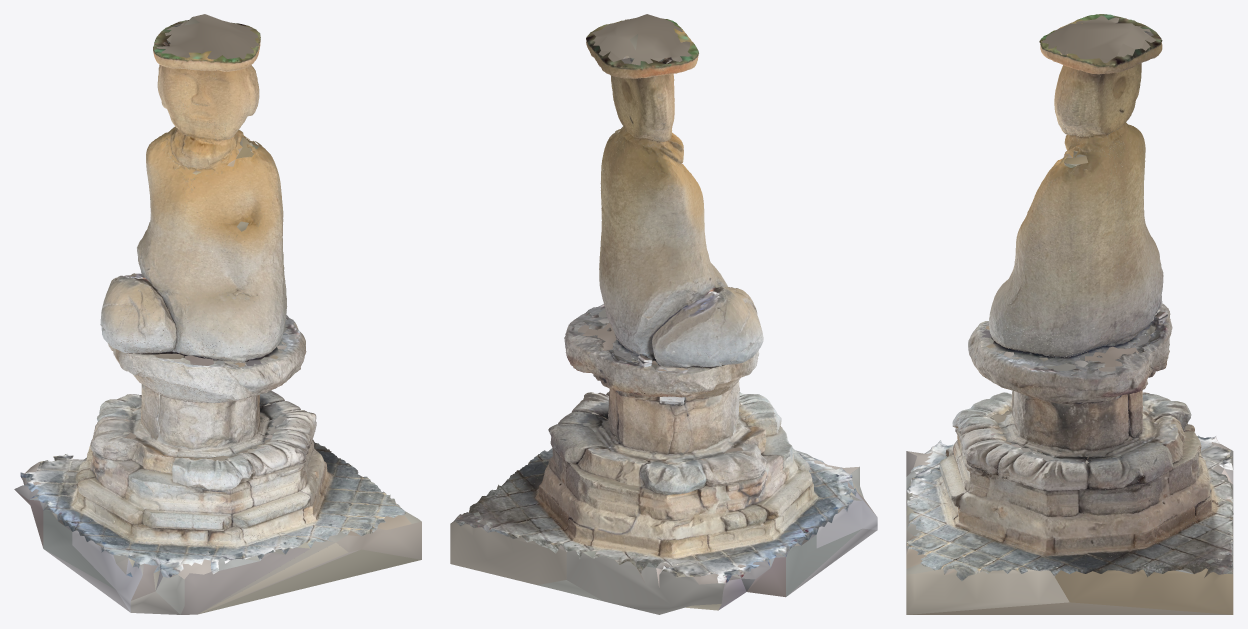
The model's file is jeongnim_buddha.glb.
3 views of the same model, side by side, from view 1: azimuth 30°, elevation 25°; view 2: azimuth 150°, elevation 25°; view 3: azimuth 270°, elevation 25° (orthographic). The views are drawn at different scales.
Visible parts, largest first — view 1: model_tex_u1_v1_0.005, model_tex_u1_v1_0.007, model, model_tex_u1_v1_0.009, model_tex_u1_v1_0.004, model_tex_u1_v1_0.003, model_tex_u1_v1_0.008, model_tex_u1_v1_0.010, model_tex_u1_v1_0.006, model_tex_u1_v1_0.002, model_tex_u1_v1_0.001; view 2: model_tex_u1_v1_0.002, model_tex_u1_v1_0.003, model_tex_u1_v1_0.006, model_tex_u1_v1_0.001, model, model_tex_u1_v1_0.007, model_tex_u1_v1_0.005, model_tex_u1_v1_0.008, model_tex_u1_v1_0.009, model_tex_u1_v1_0.010; view 3: model, model_tex_u1_v1_0.006, model_tex_u1_v1_0.001, model_tex_u1_v1_0.002, model_tex_u1_v1_0.009, model_tex_u1_v1_0.008, model_tex_u1_v1_0.007, model_tex_u1_v1_0.004, model_tex_u1_v1_0.005, model_tex_u1_v1_0.010, model_tex_u1_v1_0.003.
Part boxes in pixels (<box>): model_tex_u1_v1_0.005: <box>44,336,338,614</box>; model_tex_u1_v1_0.007: <box>111,153,286,339</box>; model: <box>162,315,421,613</box>; model_tex_u1_v1_0.009: <box>109,40,348,613</box>; model_tex_u1_v1_0.004: <box>128,294,304,449</box>; model_tex_u1_v1_0.003: <box>14,308,264,589</box>; model_tex_u1_v1_0.008: <box>100,17,286,347</box>; model_tex_u1_v1_0.010: <box>131,410,349,612</box>; model_tex_u1_v1_0.006: <box>146,14,279,193</box>; model_tex_u1_v1_0.002: <box>23,305,270,531</box>; model_tex_u1_v1_0.001: <box>108,292,326,540</box>; model_tex_u1_v1_0.002: <box>519,304,778,614</box>; model_tex_u1_v1_0.003: <box>537,330,861,610</box>; model_tex_u1_v1_0.006: <box>586,14,698,340</box>; model_tex_u1_v1_0.001: <box>451,295,741,578</box>; model: <box>450,304,827,584</box>; model_tex_u1_v1_0.007: <box>599,137,738,355</box>; model_tex_u1_v1_0.005: <box>615,136,877,596</box>; model_tex_u1_v1_0.008: <box>586,34,761,354</box>; model_tex_u1_v1_0.009: <box>601,19,810,480</box>; model_tex_u1_v1_0.010: <box>606,393,823,470</box>; model: <box>906,362,1233,614</box>; model_tex_u1_v1_0.006: <box>1040,14,1162,342</box>; model_tex_u1_v1_0.001: <box>955,266,1233,577</box>; model_tex_u1_v1_0.002: <box>1036,295,1233,534</box>; model_tex_u1_v1_0.009: <box>907,19,1146,535</box>; model_tex_u1_v1_0.008: <box>989,15,1161,345</box>; model_tex_u1_v1_0.007: <box>1013,161,1163,339</box>; model_tex_u1_v1_0.004: <box>968,302,1075,447</box>; model_tex_u1_v1_0.005: <box>906,71,1145,535</box>; model_tex_u1_v1_0.010: <box>906,392,1068,536</box>; model_tex_u1_v1_0.003: <box>956,270,1233,554</box>.
Size of the model in its own units: 3.33 by 5.78 by 3.25.
1 material, 1 textured.
